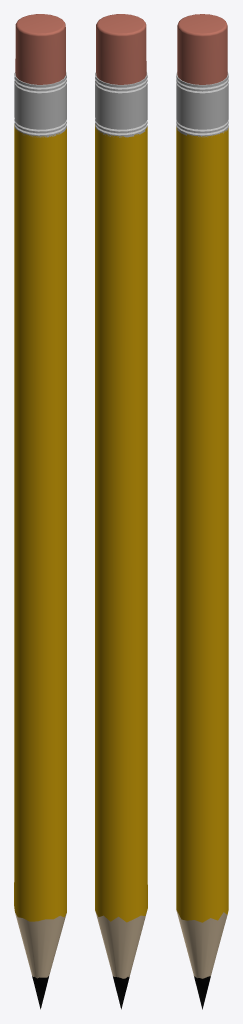
The model's file is PEN.fbx.
3 renders of one model, left to right at view 1: azimuth 30°, elevation 25°; view 2: azimuth 210°, elevation 25°; view 3: azimuth 270°, elevation 25°, orthographic.
Visible parts, largest first — view 1: Pen, Eraser, Metal, Wood, Charcoal; view 2: Pen, Eraser, Metal, Wood, Charcoal; view 3: Pen, Eraser, Metal, Wood, Charcoal.
Part boxes in pixels (box(x1,y1,x2,y2)): Pen: box(14, 124, 66, 921); Eraser: box(15, 14, 65, 84); Metal: box(14, 72, 66, 137); Wood: box(15, 913, 66, 978); Charcoal: box(32, 976, 48, 1009); Pen: box(95, 124, 147, 922); Eraser: box(96, 14, 146, 84); Metal: box(95, 72, 147, 137); Wood: box(95, 912, 146, 978); Charcoal: box(113, 976, 129, 1009); Pen: box(176, 127, 228, 922); Eraser: box(177, 14, 227, 84); Metal: box(176, 72, 228, 137); Wood: box(176, 910, 227, 978); Charcoal: box(194, 976, 210, 1009).
Size of the model in its own units: 0.0142 by 0.2944 by 0.0142.
